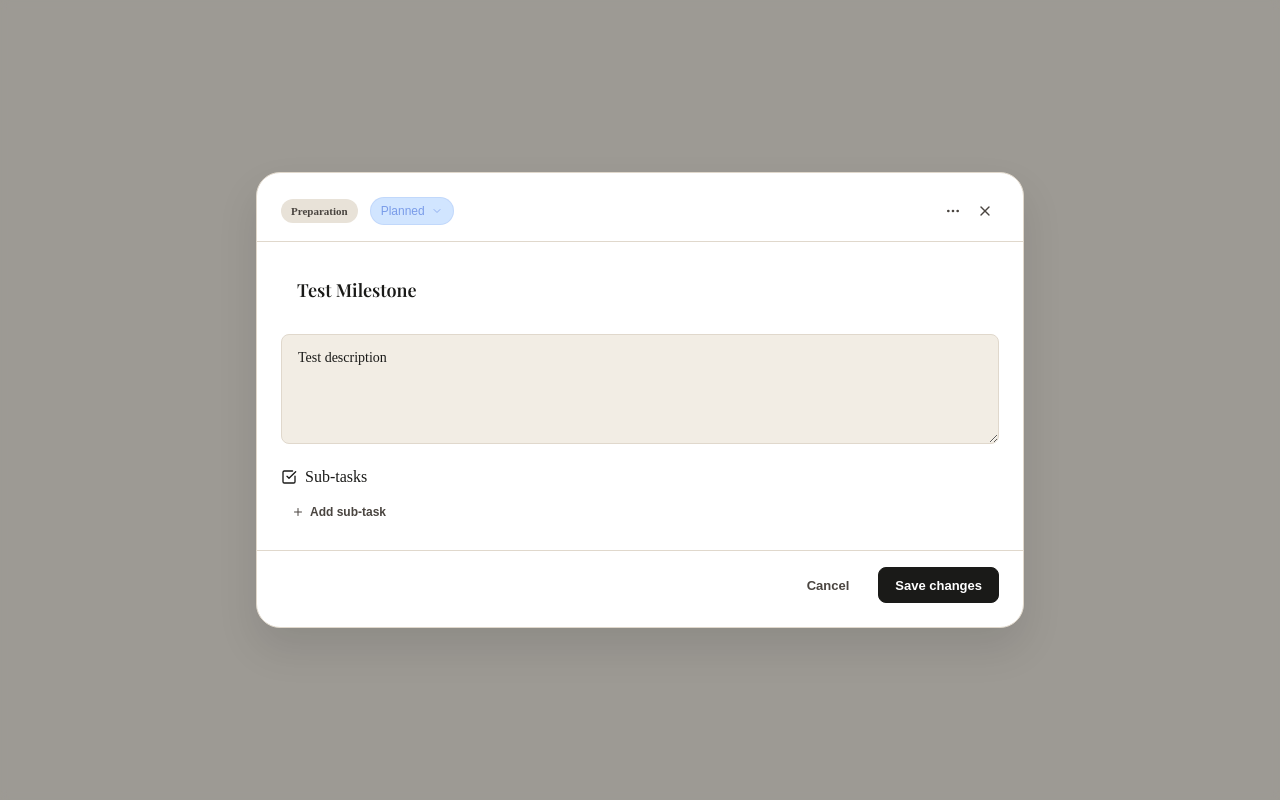
MilestoneModal (edit) › should allow changing milestone status from the edit header
Click the button with aria-label "Milestone status": (412, 211) top-left (370, 197), bottom-right (454, 225)
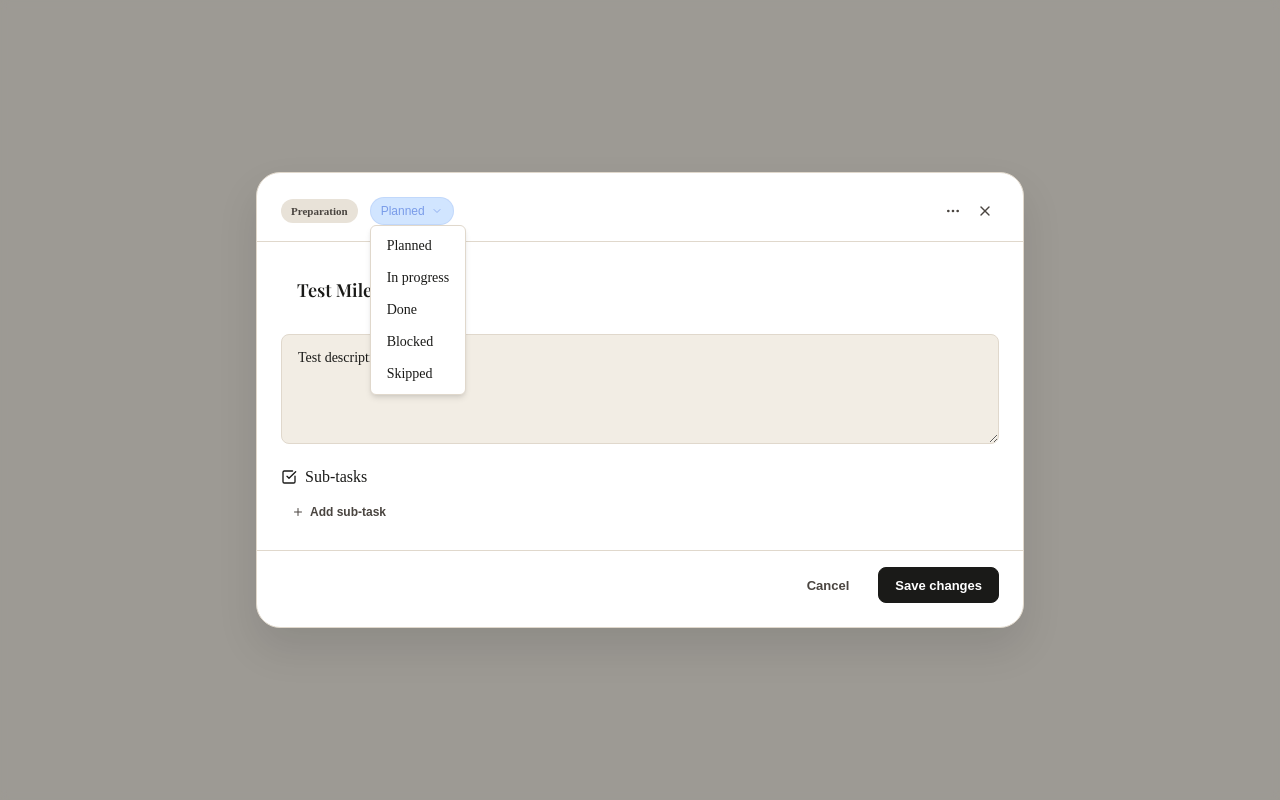
Click the option "Blocked": (410, 342) top-left (387, 334), bottom-right (433, 349)
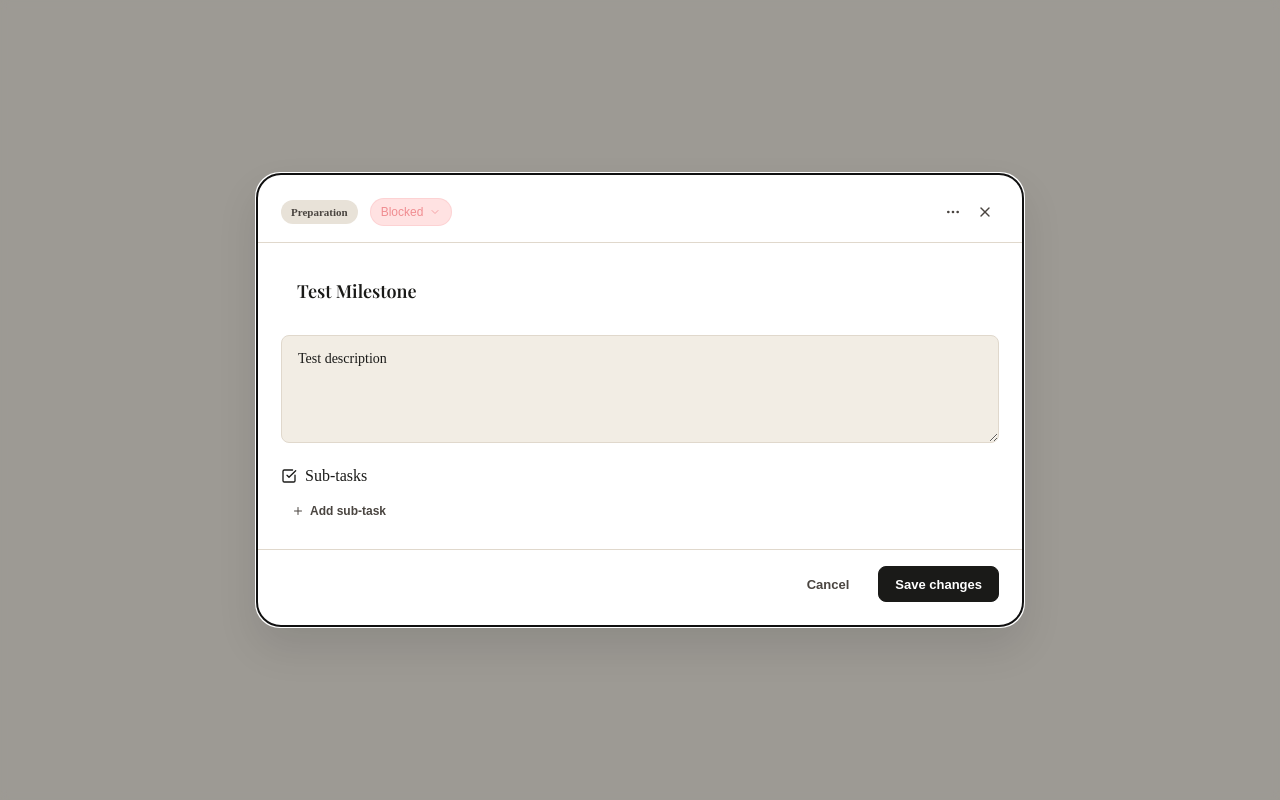
Expected: the form named "status" holds "BLOCKED", top-left (281, 267), bottom-right (999, 525)
Result: the button with aria-label "Milestone status" reads "Blocked" at top-left (370, 198), bottom-right (452, 226)
